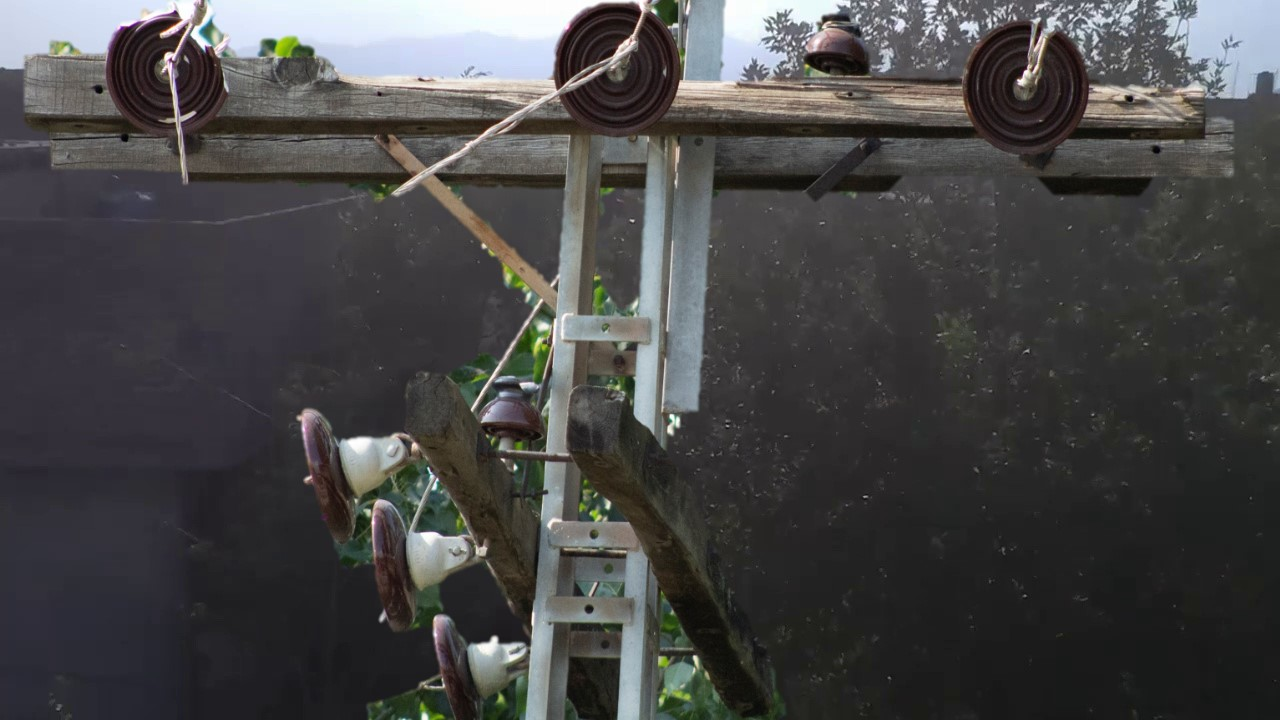defect_disc: (103, 1, 234, 140)
insulator_disc: (551, 3, 687, 146), (962, 17, 1094, 161), (289, 399, 365, 557), (367, 489, 423, 641), (431, 604, 504, 705)
insulator_pin: (478, 363, 548, 453), (799, 7, 878, 79)
